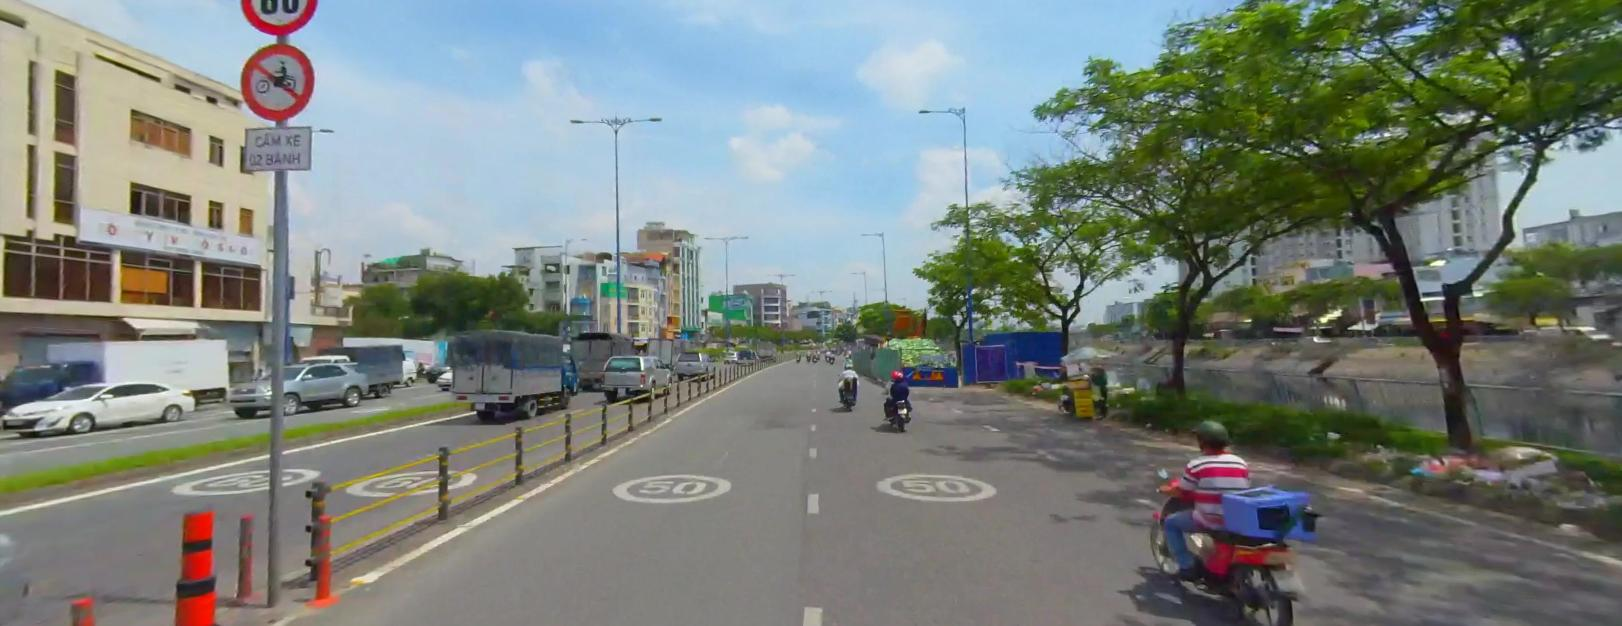Cam con lai: (239, 44, 317, 121), (241, 41, 315, 119)
Gioi han toc do: (239, 0, 319, 36), (239, 0, 317, 34)
Nguy hiem: (930, 368, 943, 378), (911, 369, 922, 378)
